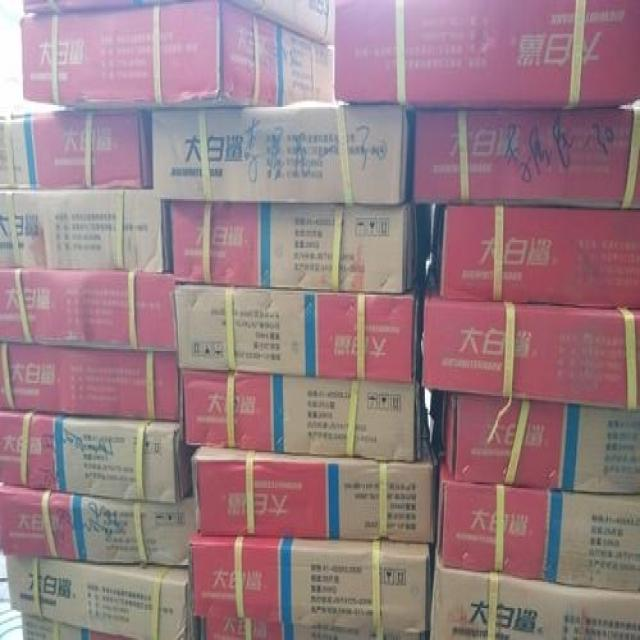box: (19, 0, 335, 109), (334, 0, 640, 107), (422, 267, 640, 409), (191, 422, 436, 541), (435, 462, 640, 591), (175, 283, 419, 387), (154, 107, 408, 205), (412, 109, 639, 208), (191, 535, 429, 629), (170, 205, 419, 293), (182, 368, 419, 460), (435, 206, 640, 308), (444, 396, 640, 495), (0, 413, 193, 507), (0, 484, 196, 569), (6, 556, 196, 640), (430, 565, 640, 640), (0, 268, 179, 349), (0, 342, 184, 420), (0, 190, 172, 270), (0, 111, 151, 190), (221, 0, 335, 45), (202, 621, 420, 640), (22, 616, 143, 640)
